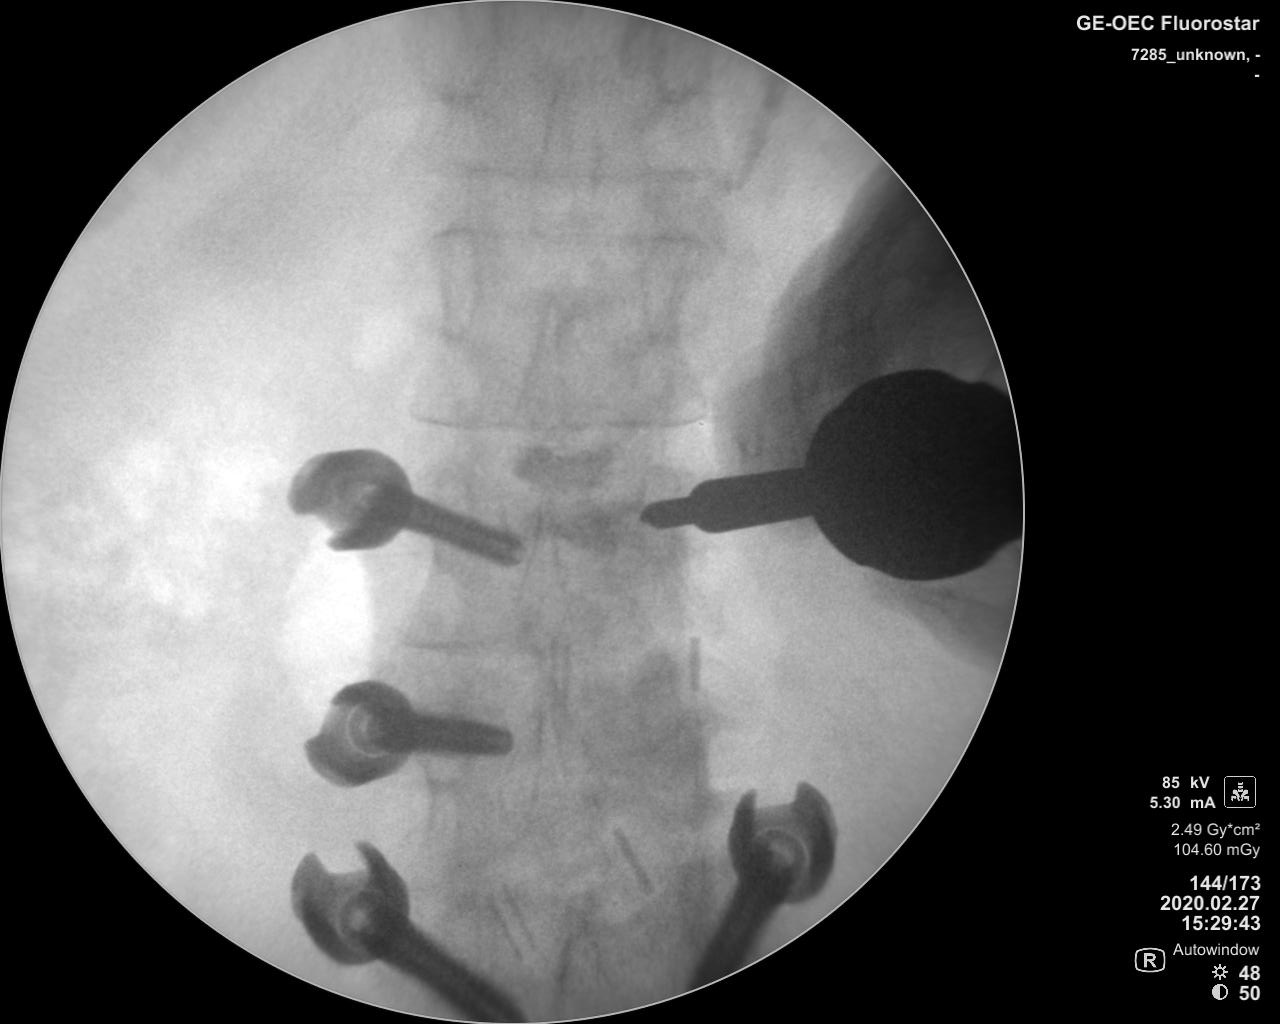eyes: (419, 6, 499, 106), (433, 227, 483, 346), (643, 233, 684, 341), (649, 27, 702, 106)
line: (450, 156, 731, 192), (430, 224, 719, 252), (401, 409, 709, 435)
nose: (511, 292, 574, 437), (530, 88, 583, 247), (520, 492, 567, 657)
